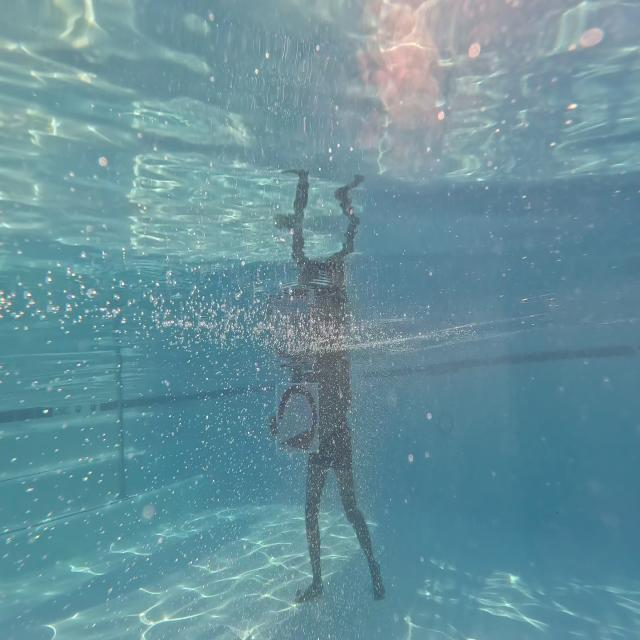red_side: (263, 384, 325, 460)
